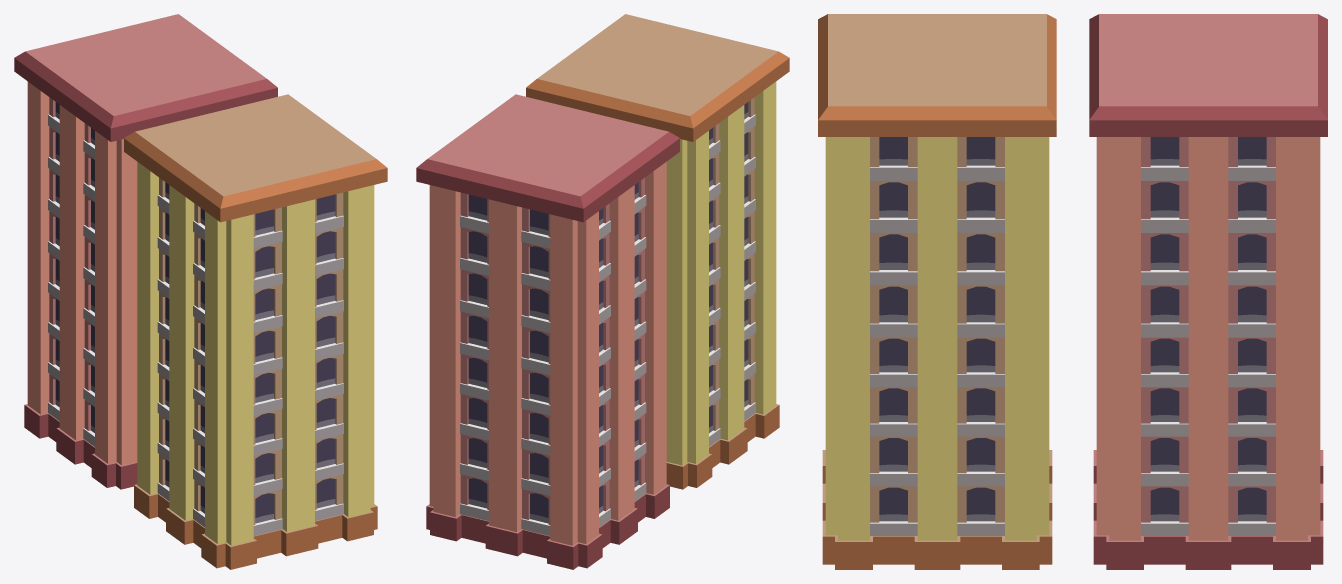
The model's file is building 4 - yellow and red.fbx.
3 renders of one model, left to right at view 1: azimuth 30°, elevation 25°; view 2: azimuth 150°, elevation 25°; view 3: azimuth 270°, elevation 25°, orthographic. The views are drawn at different scales.
Parts seen in each view (by area): view 1: pCube3, pCube1, pCube4, pCube2; view 2: pCube1, pCube3, pCube2, pCube4; view 3: pCube1, pCube3, pCube2, pCube4.
Part boxes in pixels (x1,y1,x2,y2): pCube3: [134, 162, 377, 569]; pCube1: [24, 81, 137, 489]; pCube4: [124, 94, 387, 222]; pCube2: [14, 14, 277, 141]; pCube1: [426, 162, 669, 569]; pCube3: [666, 81, 779, 489]; pCube2: [416, 94, 679, 222]; pCube4: [526, 14, 789, 141]; pCube1: [1093, 137, 1323, 569]; pCube3: [822, 137, 1052, 569]; pCube2: [1089, 14, 1327, 136]; pCube4: [818, 14, 1056, 136].
Bounding box in the file's own units: 7.05 × 15.03 × 15.06.
